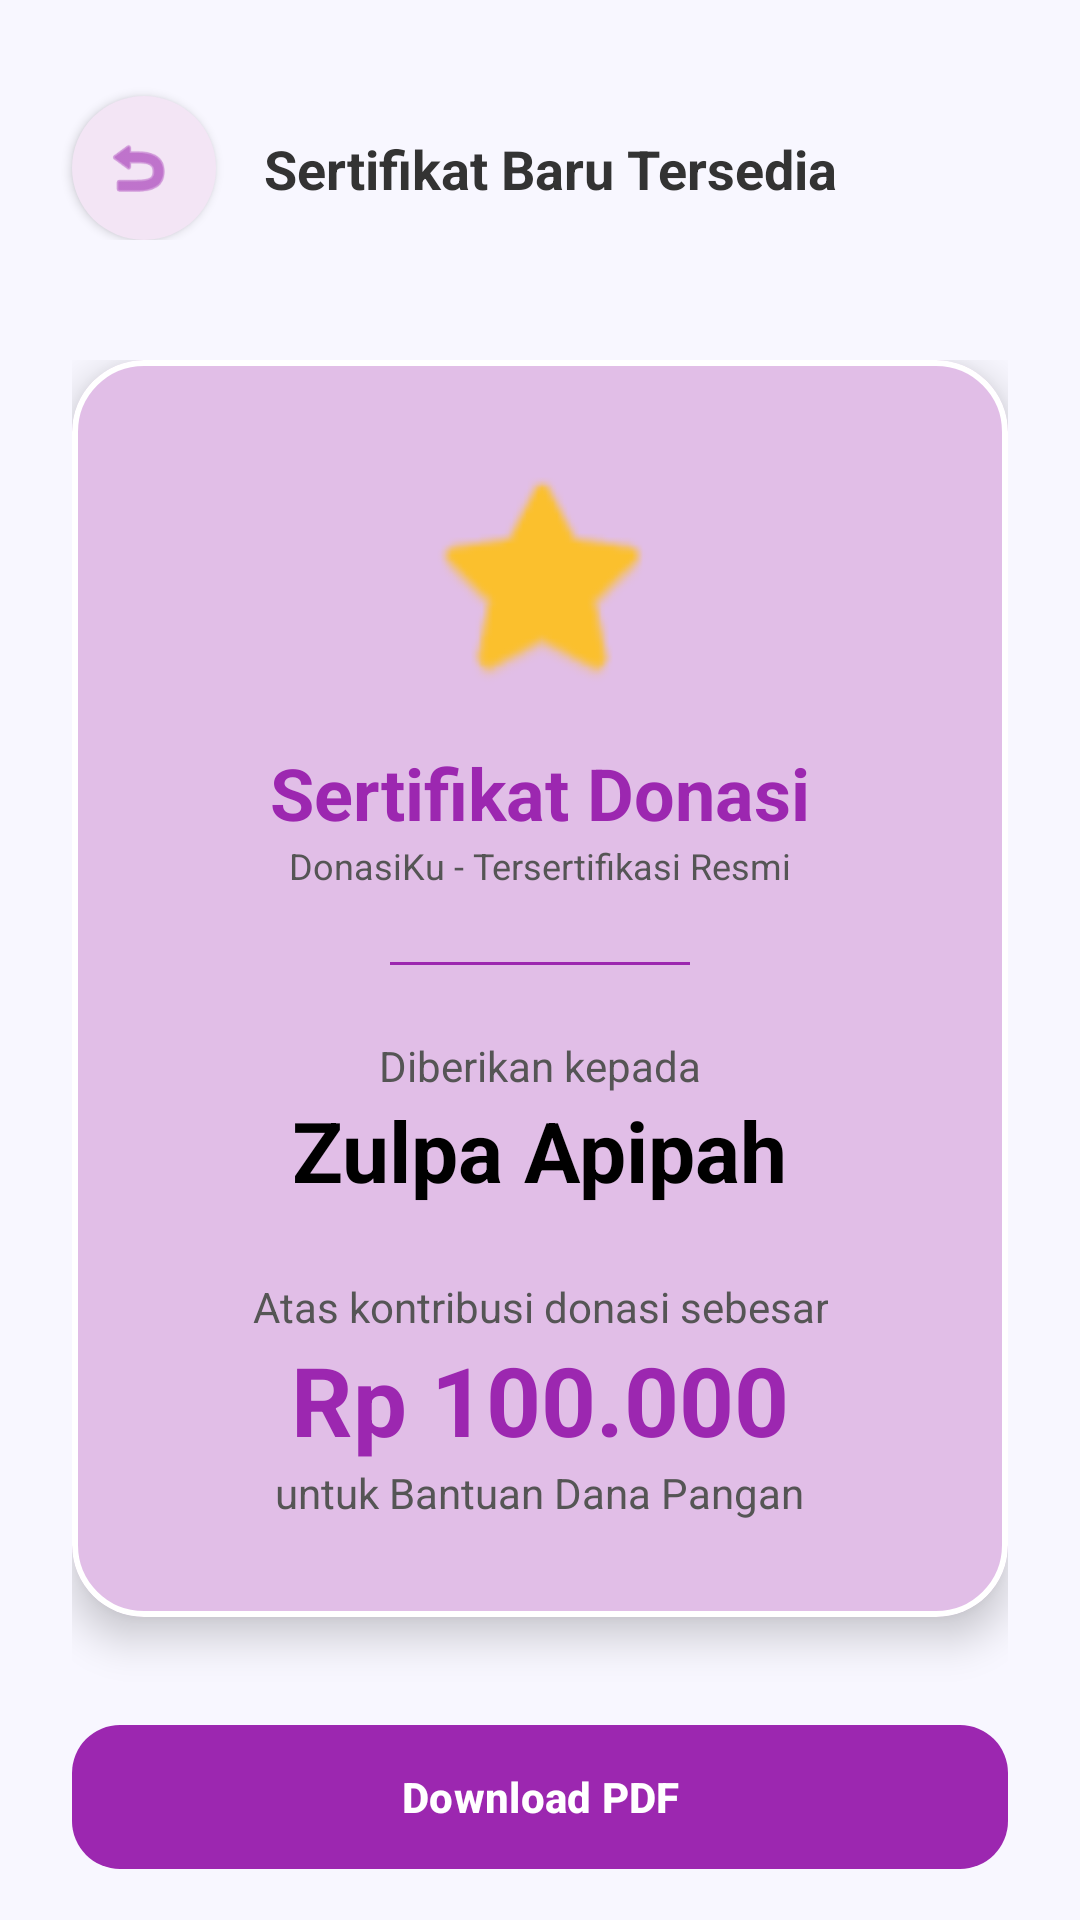

Icon click points for this 1080w x 1920h phone screenshot, format point (x, y):
Kembali: point (144, 168)
